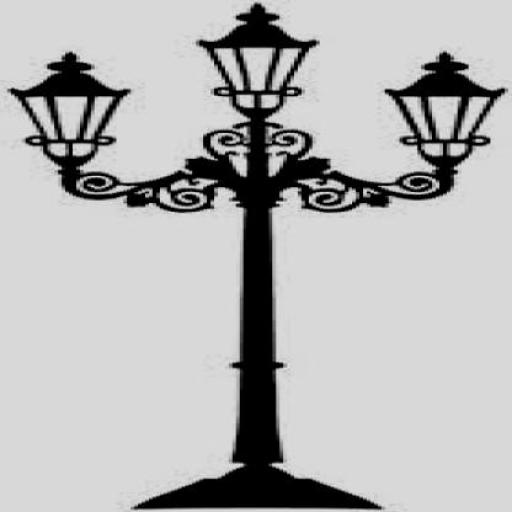street light: (4, 3, 508, 510)
